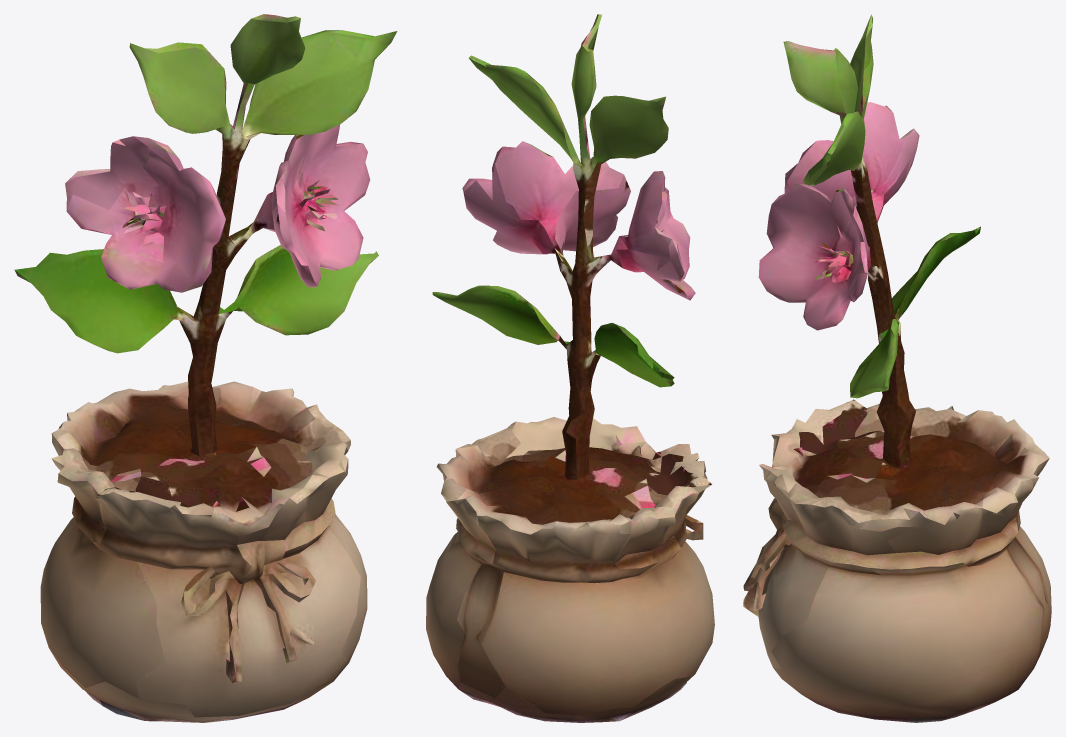
Rendered from sapling_cherry.glb.
The picture shows the model from 3 angles, left to right: view 1: azimuth 30°, elevation 25°; view 2: azimuth 150°, elevation 25°; view 3: azimuth 270°, elevation 25°; orthographic projection. The views are drawn at different scales.
Visible parts, largest first — view 1: sapling_cherry; view 2: sapling_cherry; view 3: sapling_cherry.
Boxes of the visible parts, x1,y1,x2,y2 form: sapling_cherry: (14, 14, 397, 722); sapling_cherry: (426, 14, 714, 722); sapling_cherry: (743, 14, 1051, 722).
Bounding box in the file's own units: 0.467 × 1 × 0.4285.
Materials: 1 (1 with a texture image).
